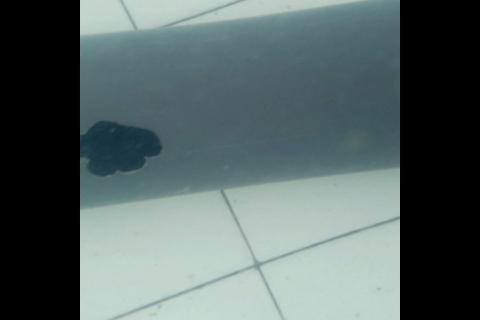kebocoran: (80, 117, 164, 178)
